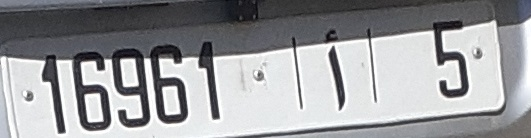1: (32, 52, 67, 138), (194, 33, 225, 128)
5: (424, 14, 472, 98)
6: (70, 44, 112, 134), (152, 39, 188, 134)
9: (112, 45, 151, 134)
a: (320, 22, 357, 119)
